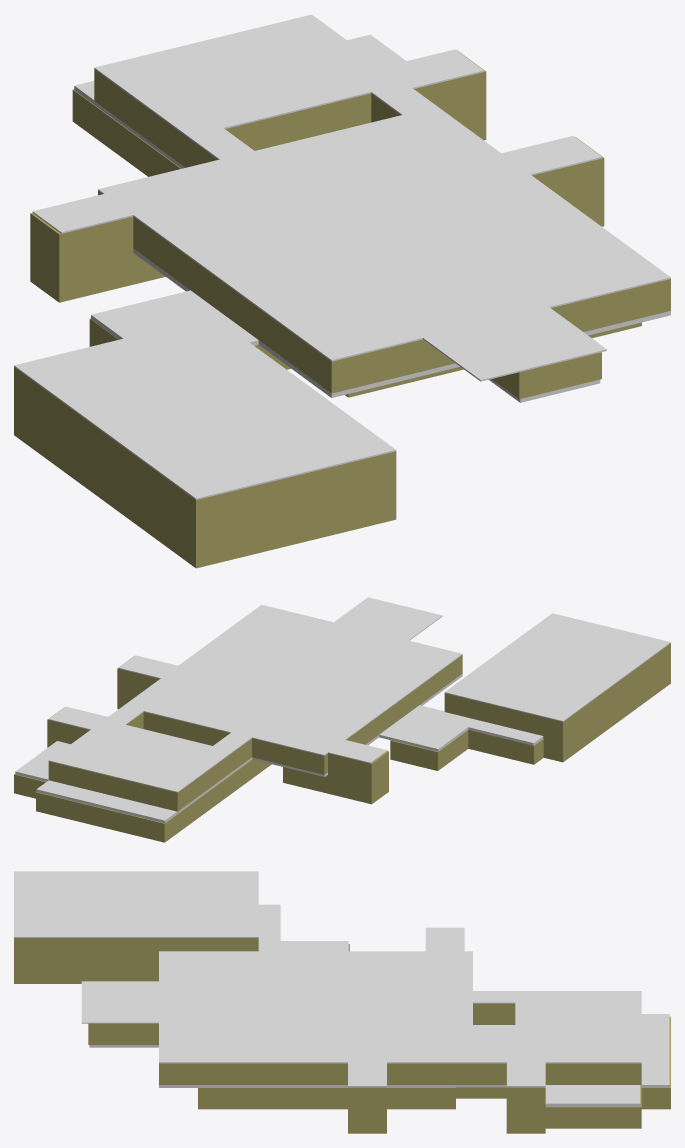
File: university.fbx
3 views of the same model, one above another, from view 1: azimuth 30°, elevation 25°; view 2: azimuth 150°, elevation 25°; view 3: azimuth 270°, elevation 25° (orthographic). The views are drawn at different scales.
Visible parts, largest first — view 1: Second Ceiling, Wall, Walls, First Floor Ceiling; view 2: Second Ceiling, Wall, Walls, First Floor Ceiling; view 3: Second Ceiling, Wall, Walls, First Floor Ceiling.
Boxes of the visible parts, x1,y1,x2,y2 form: Second Ceiling: (14, 14, 670, 499); Wall: (14, 50, 670, 531); Walls: (14, 89, 641, 568); First Floor Ceiling: (74, 34, 670, 402); Second Ceiling: (48, 597, 670, 792); Wall: (47, 643, 670, 811); Walls: (14, 662, 670, 842); First Floor Ceiling: (15, 674, 543, 823); Second Ceiling: (14, 871, 641, 1086); Wall: (14, 938, 641, 1109); Walls: (14, 944, 670, 1133); First Floor Ceiling: (89, 904, 669, 1106).
Bounding box in the file's own units: 7550 × 767 × 9733.
